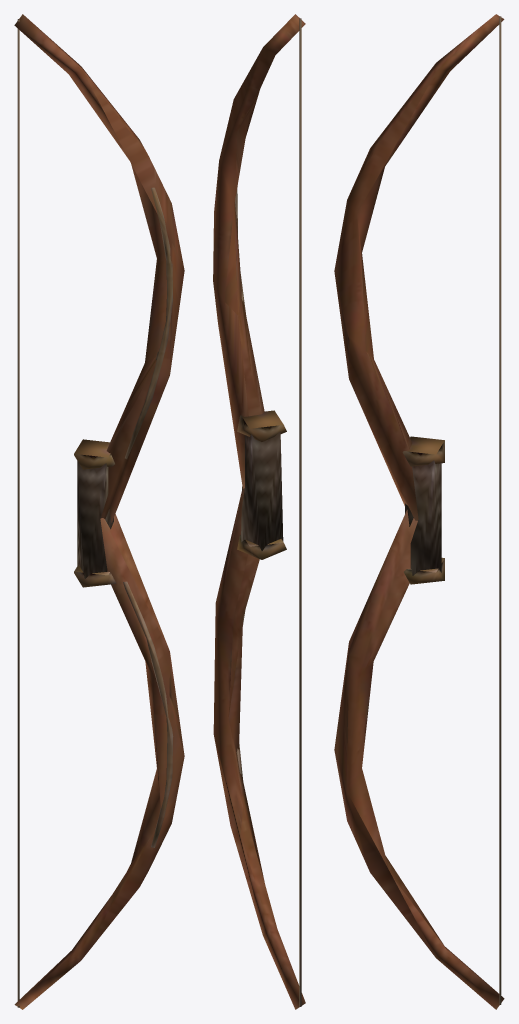
The model's file is eq_bow_2_lod2.glb.
The picture shows the model from 3 angles, left to right: view 1: azimuth 90°, elevation 25°; view 2: azimuth 210°, elevation 25°; view 3: azimuth 270°, elevation 25°; orthographic projection.
Visible parts, largest first — view 1: eq_bow_2_lod2; view 2: eq_bow_2_lod2; view 3: eq_bow_2_lod2.
Boxes of the visible parts, <box> form: eq_bow_2_lod2: <box>14,14,184,1009</box>; eq_bow_2_lod2: <box>213,14,305,1009</box>; eq_bow_2_lod2: <box>334,14,504,1009</box>.
Size of the model in its own units: 0.0618 by 1.57 by 0.2437.
1 material, 1 textured.
